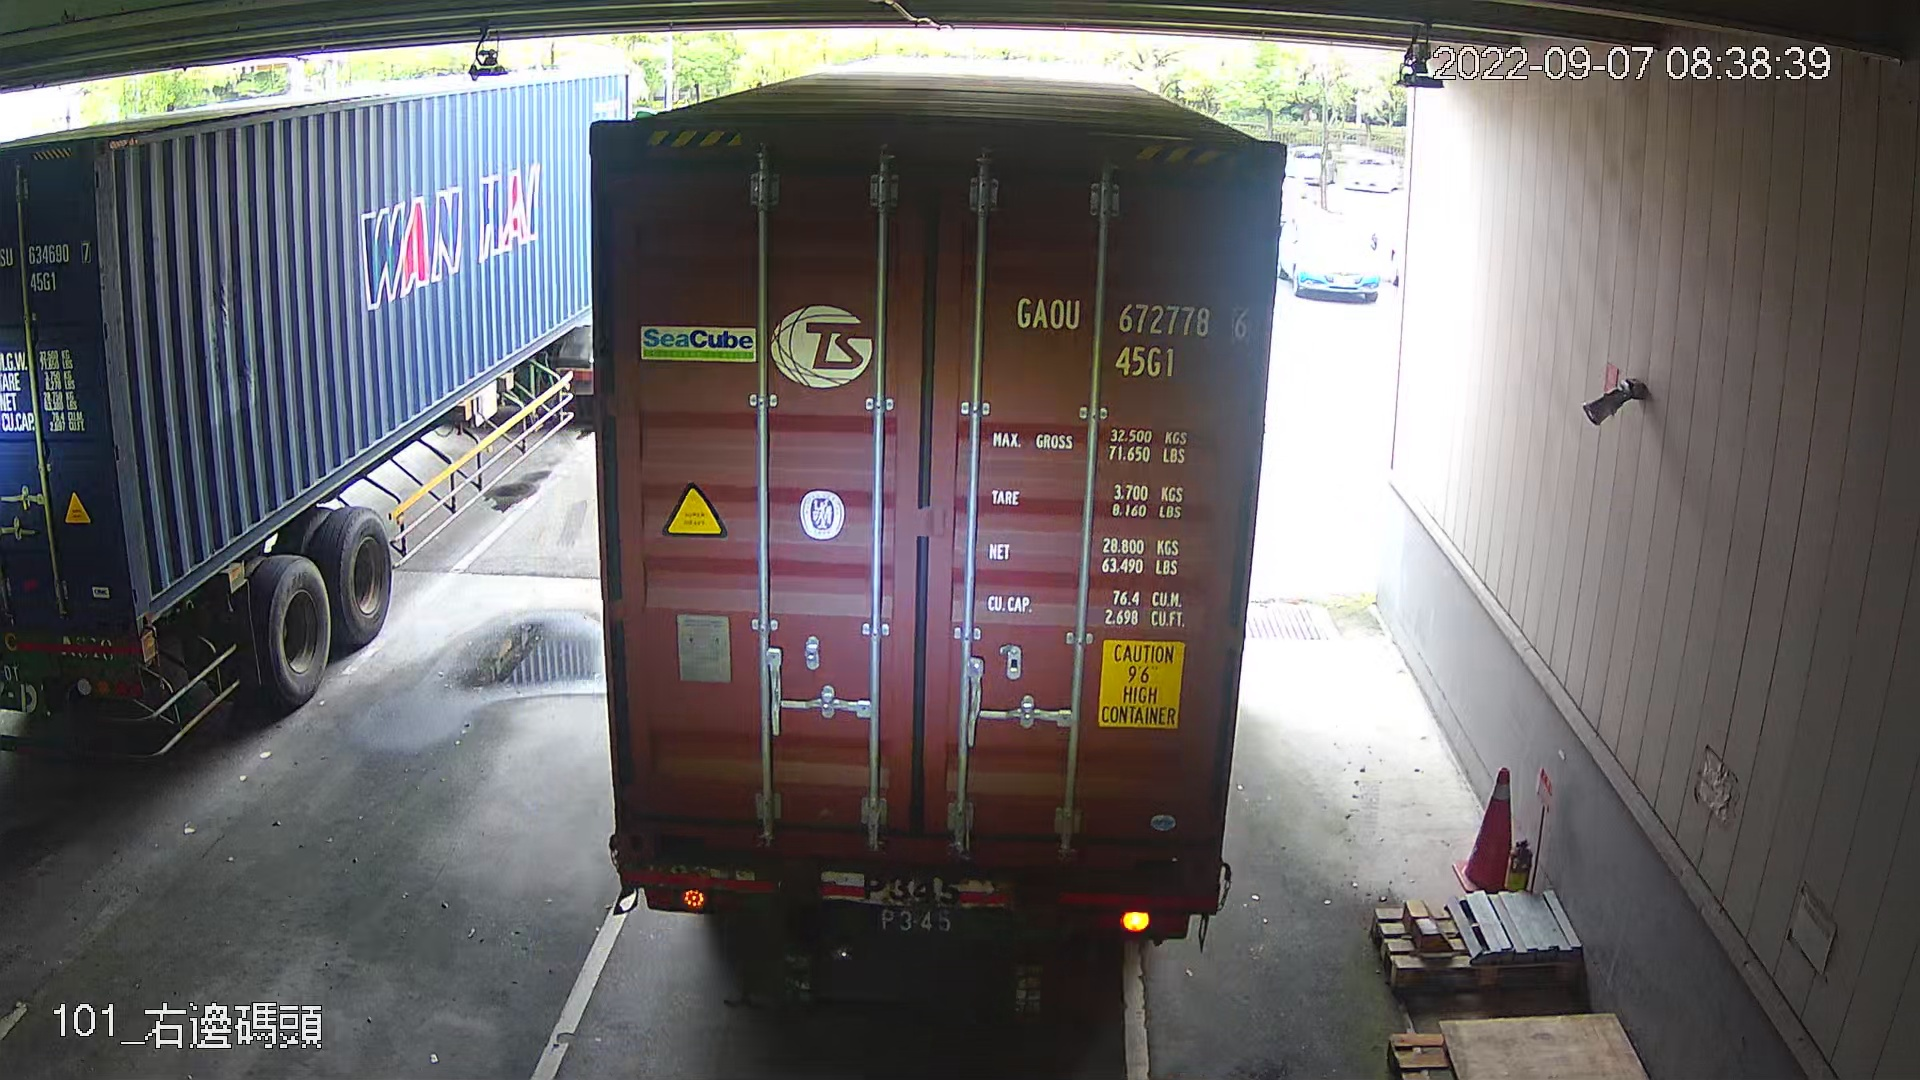container: (1007, 287, 1262, 386)
